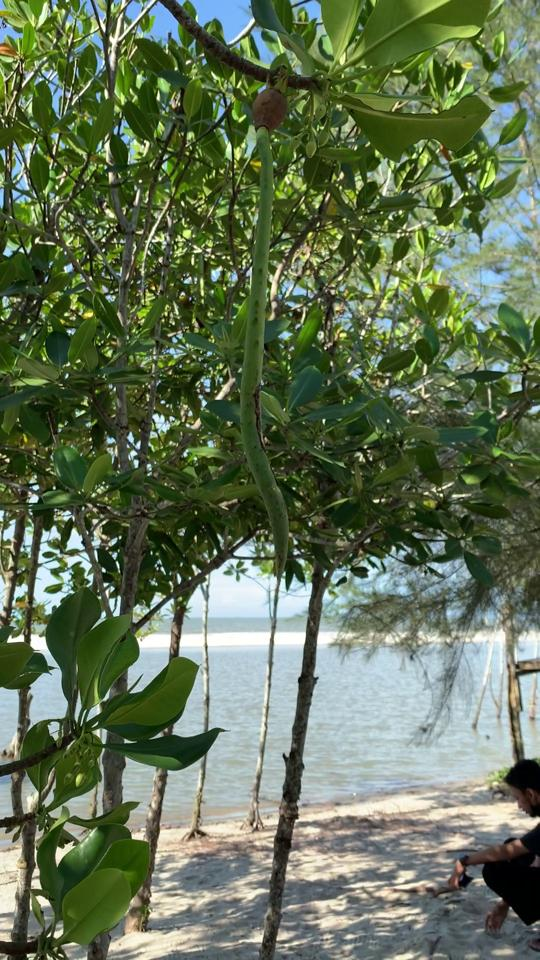setengah matang: (237, 75, 300, 586)
